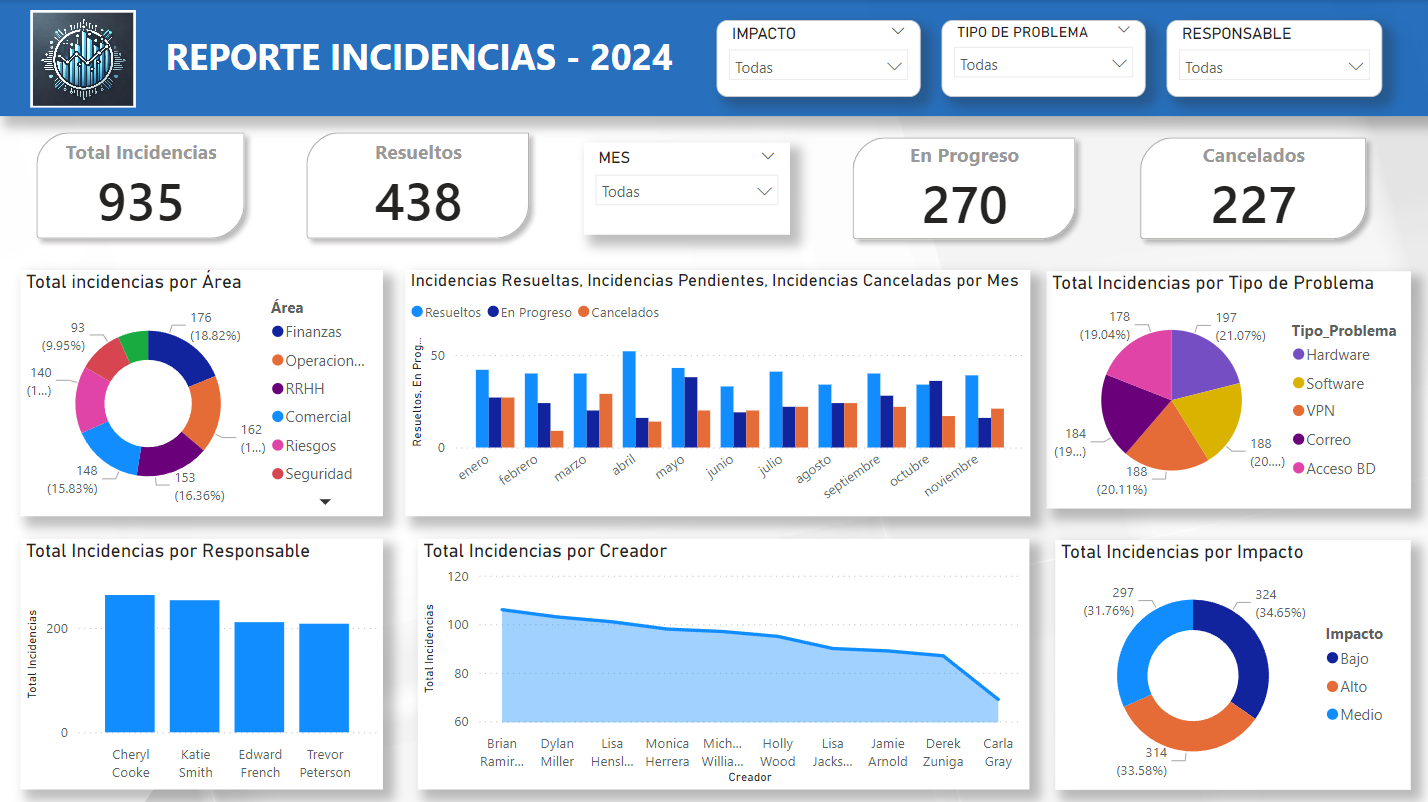

This screenshot's page, from the dashboard's own definition file:
{"tool":"powerbi","page":{"name":"Página 1","canvas":[1280,720],"ordinal":0},"visuals":[{"type":"shape","box":[0,0,1280,104.1],"z":0},{"type":"textbox","box":[122,23.5,506.9,57.3],"z":2000},{"type":"slicer","fields":{"Values":["2024.Impacto"]},"box":[640.7,17.6,182.2,69.1],"z":3000},{"type":"slicer","fields":{"Values":["2024.Tipo_Problema"]},"box":[842,17.6,182.2,69.1],"z":4000},{"type":"slicer","fields":{"Values":["2024.Responsable1"]},"box":[1043.3,17.6,192.5,69.1],"z":5000},{"type":"slicer","fields":{"Values":["Calendario.Mes"]},"box":[523.1,127.8,183.7,82.3],"z":6000},{"type":"cardVisual","fields":{"Data":["2024.Total Incidencias"]},"box":[19.1,104.3,214.5,123.4],"z":7000},{"type":"cardVisual","fields":{"Data":["2024.Resueltos"]},"box":[260.1,104.3,227.8,123.4],"z":8000},{"type":"cardVisual","fields":{"Data":["2024.En Progreso"]},"box":[747.9,108.7,227.8,119],"z":9000},{"type":"cardVisual","fields":{"Data":["2024.Cancelados"]},"box":[1005.1,108.7,230.7,119],"z":10000},{"type":"donutChart","title":"Total incidencias por Área","fields":{"Category":["2024.Área"],"Y":["2024.Total Incidencias"]},"box":[18.8,241.4,323.9,219.8],"z":11000},{"type":"pieChart","title":"Total Incidencias por Tipo de Problema","fields":{"Category":["2024.Tipo_Problema"],"Y":["2024.Total Incidencias"]},"box":[935.6,241.9,325.9,211.7],"z":12000},{"type":"lineStackedColumnComboChart","title":"Total Incidencias por Responsable","fields":{"Category":["2024.Responsable1"],"Y":["2024.Total Incidencias"]},"box":[18.8,481.4,323.9,224.1],"z":13000},{"type":"clusteredColumnChart","title":"Incidencias Resueltas, Incidencias Pendientes, Incidencias Canceladas por Mes","fields":{"Y":["2024.Resueltos","2024.En Progreso","2024.Cancelados"],"Category":["Calendario.Mes"]},"box":[362.9,241.4,558.1,219.8],"z":14000},{"type":"stackedAreaChart","title":"Total Incidencias por Creador","fields":{"Category":["2024.Creador1"],"Y":["2024.Total Incidencias"]},"box":[374.5,481.4,546.5,224.1],"z":15000},{"type":"donutChart","title":"Total Incidencias por Impacto","fields":{"Category":["2024.Impacto1"],"Y":["2024.Total Incidencias"]},"box":[944,482.1,317.5,223.4],"z":16000},{"type":"image","box":[27.9,9.3,94.2,87.2],"z":17001}]}

Visuals, with their boxes in screenshot pixels (x1, y1, x2, y2), scaled from the page's 1280x720 canvas onto the 1428x802 screenshot:
shape: [left=0, top=0, right=1427, bottom=116]
textbox: [left=136, top=26, right=702, bottom=90]
slicer - 2024.Impacto: [left=715, top=20, right=918, bottom=97]
slicer - 2024.Tipo_Problema: [left=939, top=20, right=1143, bottom=97]
slicer - 2024.Responsable1: [left=1164, top=20, right=1379, bottom=97]
slicer - Calendario.Mes: [left=584, top=142, right=789, bottom=234]
cardVisual - 2024.Total Incidencias: [left=21, top=116, right=261, bottom=254]
cardVisual - 2024.Resueltos: [left=290, top=116, right=544, bottom=254]
cardVisual - 2024.En Progreso: [left=834, top=121, right=1089, bottom=254]
cardVisual - 2024.Cancelados: [left=1121, top=121, right=1379, bottom=254]
"Total incidencias por Área" donutChart: [left=21, top=269, right=382, bottom=514]
"Total Incidencias por Tipo de Problema" pieChart: [left=1044, top=269, right=1407, bottom=505]
"Total Incidencias por Responsable" lineStackedColumnComboChart: [left=21, top=536, right=382, bottom=786]
"Incidencias Resueltas, Incidencias Pendientes, Incidencias Canceladas por Mes" clusteredColumnChart: [left=405, top=269, right=1027, bottom=514]
"Total Incidencias por Creador" stackedAreaChart: [left=418, top=536, right=1027, bottom=786]
"Total Incidencias por Impacto" donutChart: [left=1053, top=537, right=1407, bottom=786]
image: [left=31, top=10, right=136, bottom=107]
